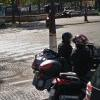Motorcycle: (25, 40, 100, 100)
